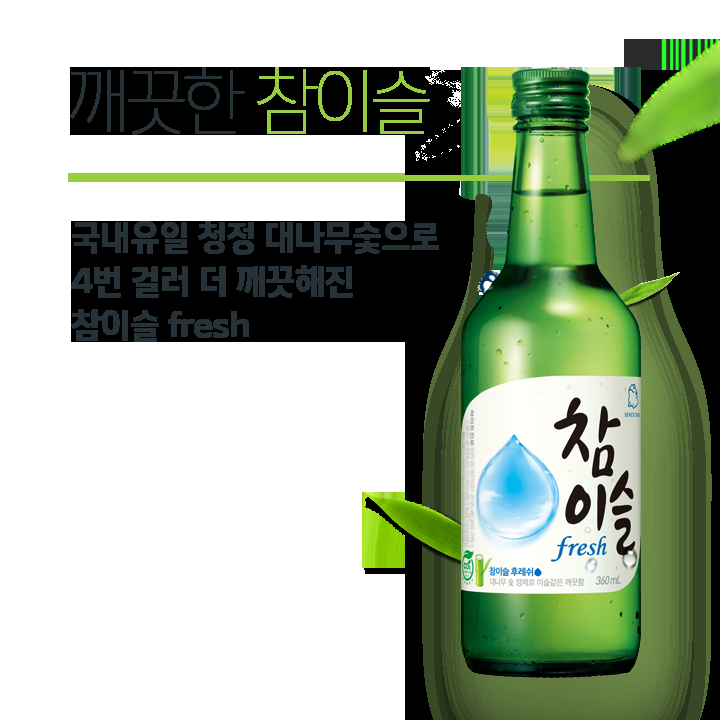soju: (458, 66, 653, 681)
